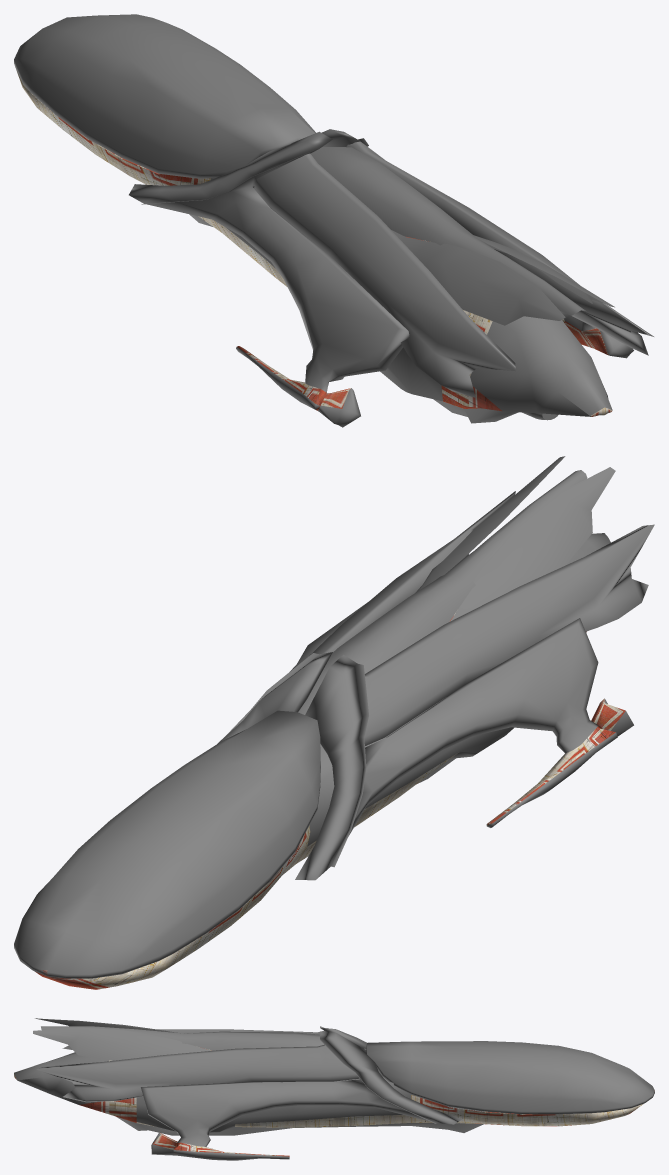
File: Ucruiser01.dae
3 views of the same model, one above another, from view 1: azimuth 30°, elevation 25°; view 2: azimuth 150°, elevation 25°; view 3: azimuth 270°, elevation 25° (orthographic). The views are drawn at different scales.
Visible parts, largest first — view 1: UGTOcruiser; view 2: UGTOcruiser; view 3: UGTOcruiser.
Part boxes in pixels (left/top/right/bottom): UGTOcruiser: left=14, top=14, right=653, bottom=427; UGTOcruiser: left=14, top=456, right=654, bottom=989; UGTOcruiser: left=14, top=1018, right=654, bottom=1160.
Size of the model in its own units: 1.13 by 0.683 by 3.58.
